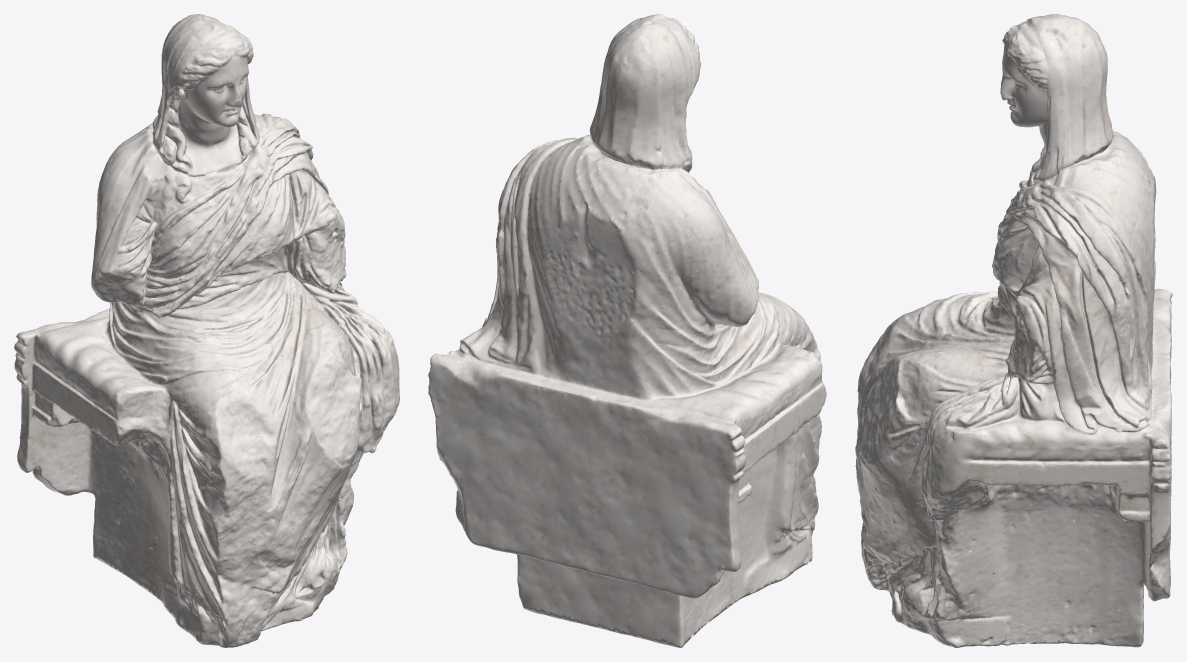
3 renders of one model, left to right at view 1: azimuth 30°, elevation 25°; view 2: azimuth 150°, elevation 25°; view 3: azimuth 270°, elevation 25°, orthographic. The views are drawn at different scales.
Visible parts, largest first — view 1: Object_3, Object_2, Object_4, Object_5; view 2: Object_2, Object_3, Object_4, Object_5; view 3: Object_2, Object_3, Object_4, Object_5.
Part boxes in pixels (x1,y1,x2,y2): Object_3: (14, 14, 399, 647); Object_2: (17, 14, 399, 647); Object_4: (16, 22, 398, 647); Object_5: (18, 15, 398, 646); Object_2: (428, 17, 826, 647); Object_3: (428, 14, 822, 644); Object_4: (428, 14, 821, 623); Object_5: (436, 17, 824, 632); Object_2: (855, 17, 1172, 647); Object_3: (855, 14, 1171, 645); Object_4: (856, 18, 1171, 646); Object_5: (857, 17, 1171, 644).
Size of the model in its own units: 0.8284 by 1.47 by 0.7192.
Materials: 1 (1 with a texture image).
